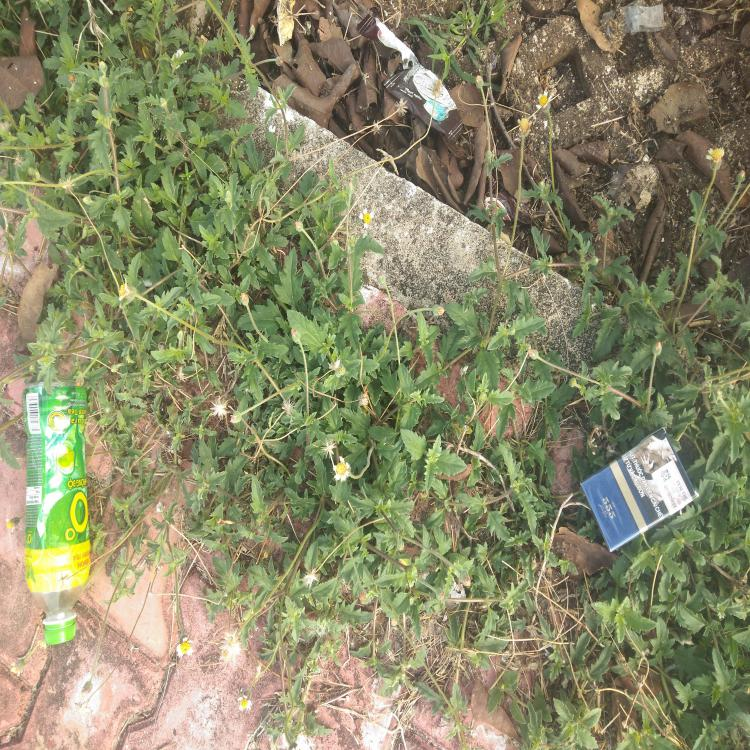Clear plastic bottle: (21, 380, 91, 645)
Other carton: (580, 427, 700, 552)
Other plastic: (355, 14, 463, 142), (483, 190, 532, 227)
Plastic bottle cap: (44, 622, 76, 645)
Plastic film: (601, 0, 664, 36)
